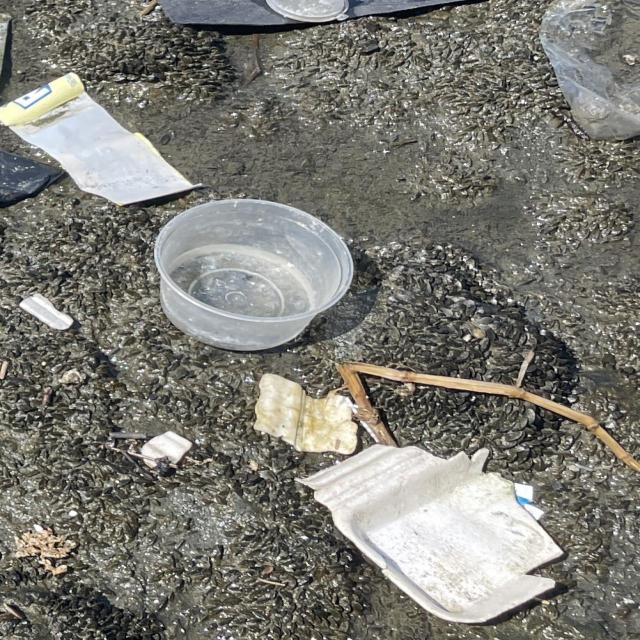plastic_waste: (159, 202, 361, 355), (1, 71, 197, 206), (537, 1, 637, 137)
styrofoam_waste: (308, 450, 570, 630)
